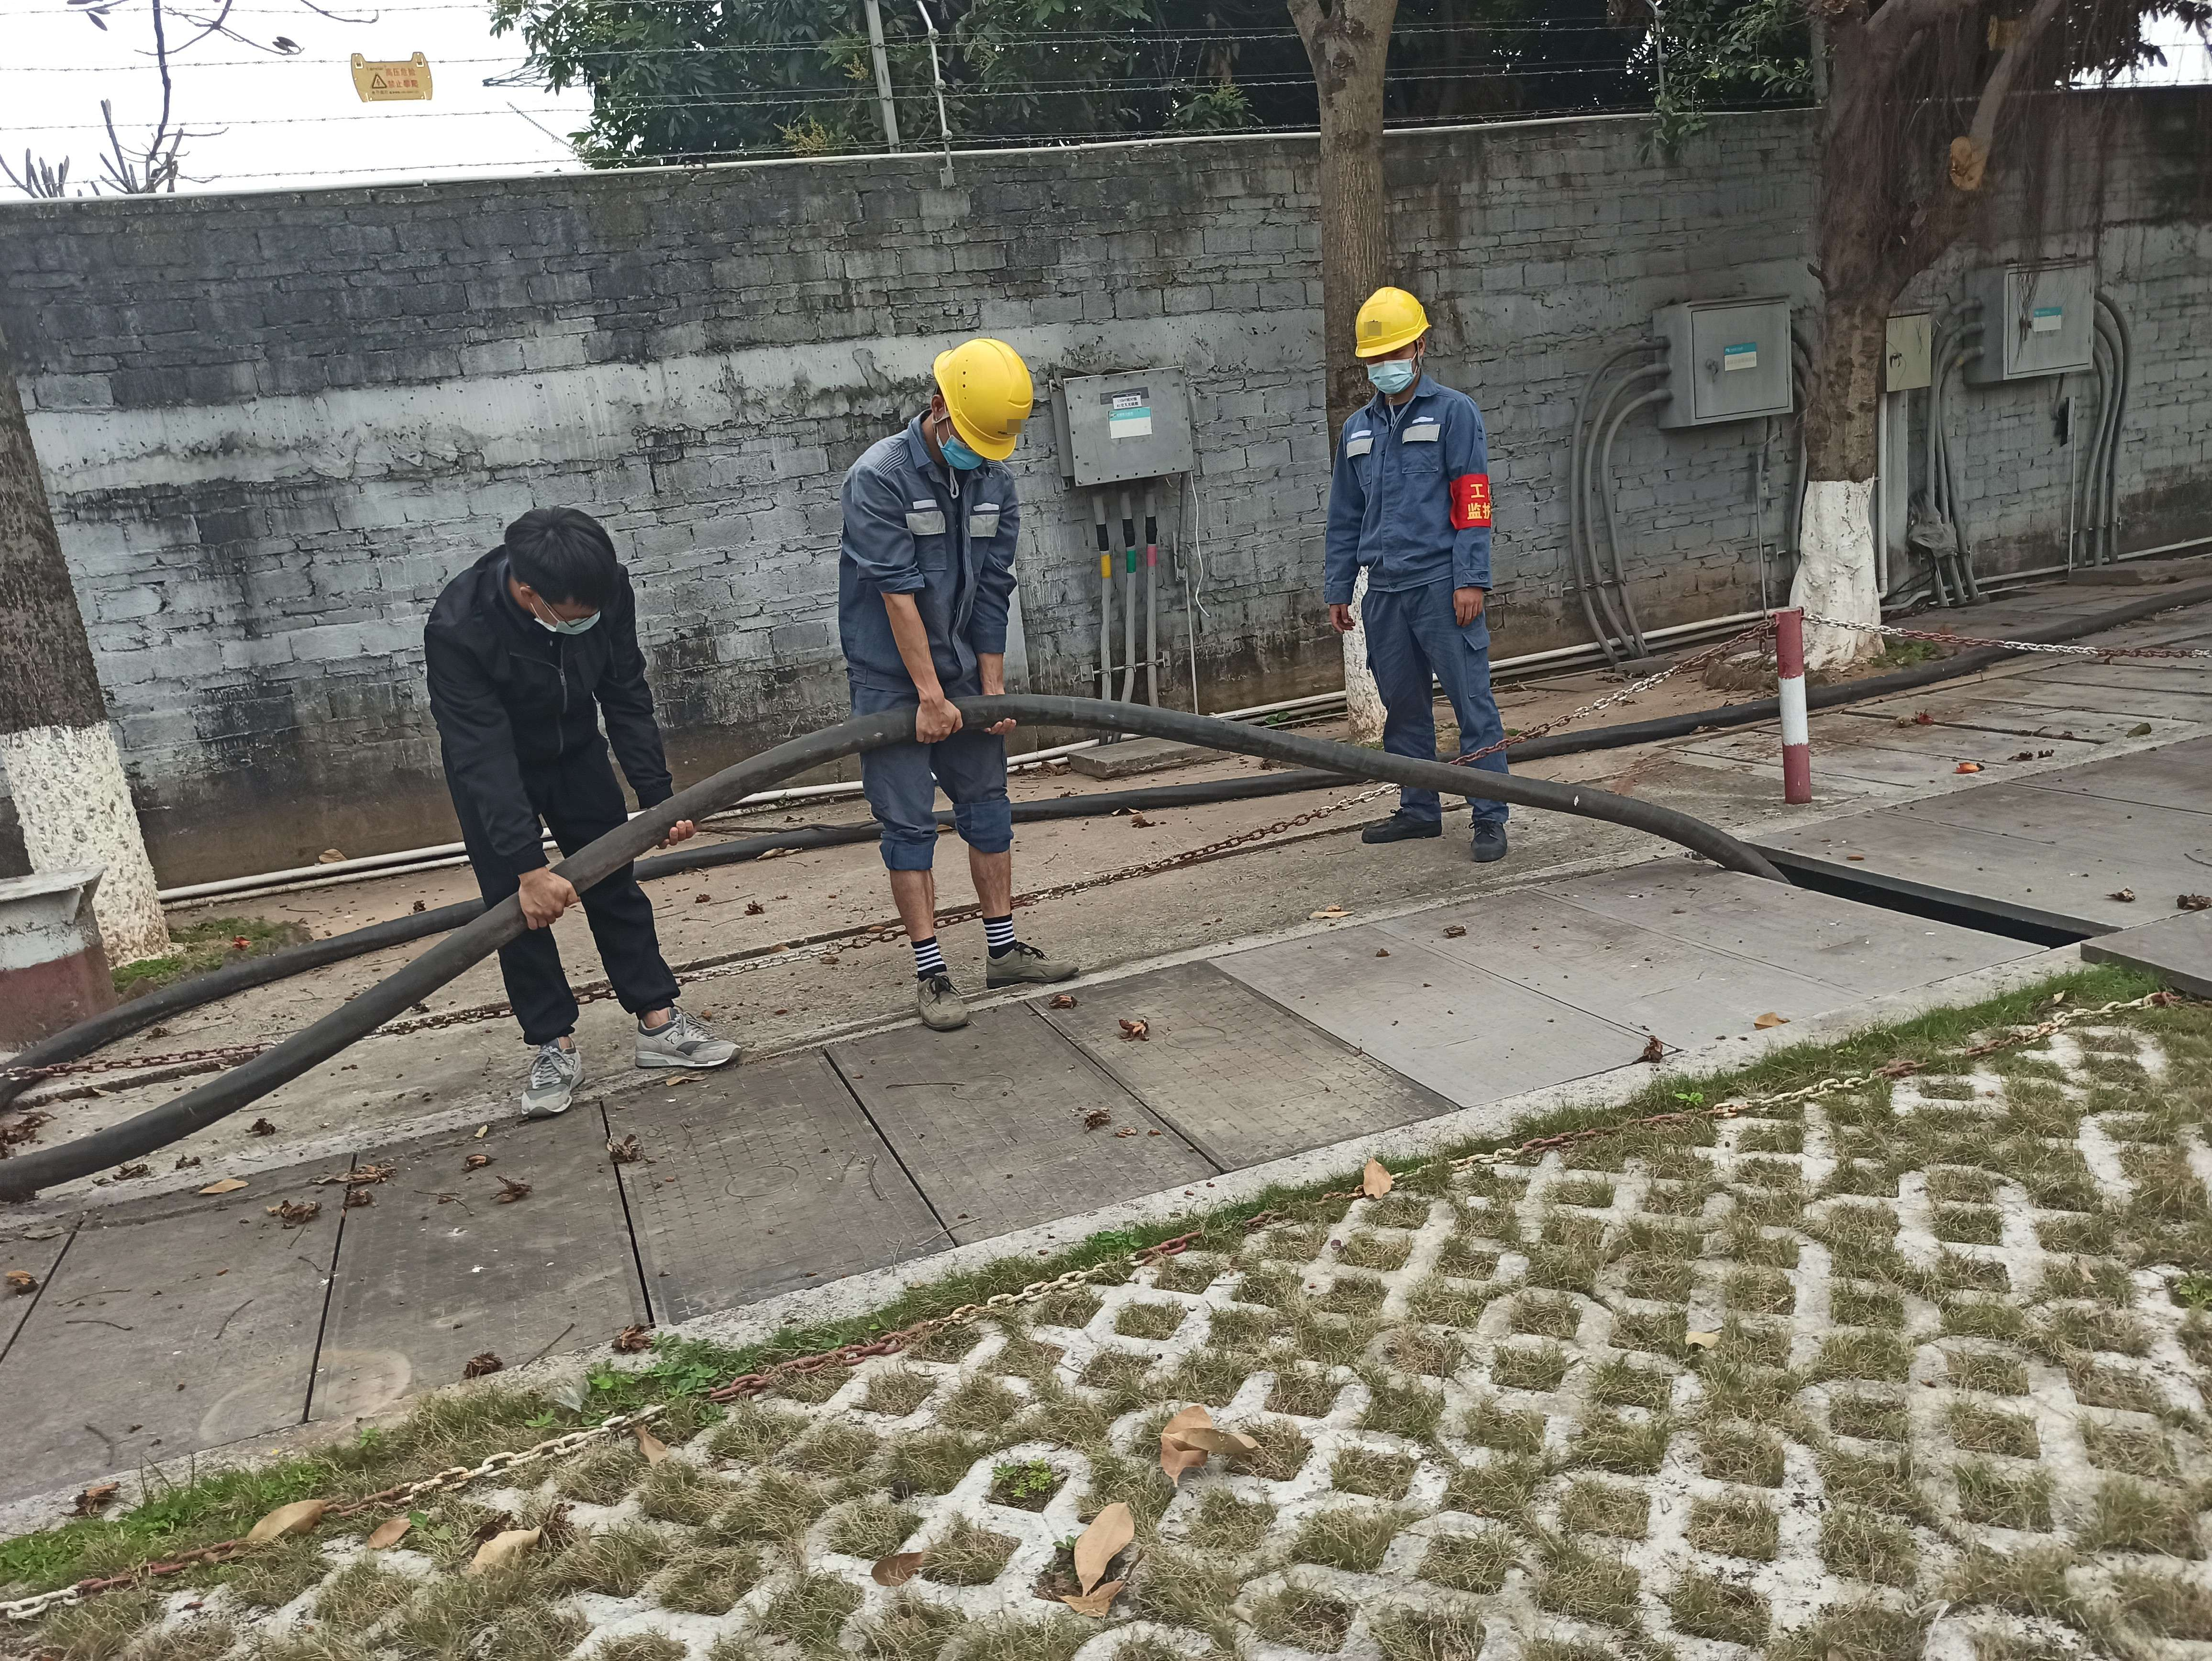downcloth: (434, 719, 693, 1057)
downsuit: (857, 684, 1022, 864), (1366, 614, 1514, 790)
upcloth: (424, 555, 666, 844)
upsuit: (1317, 373, 1504, 591), (843, 422, 1024, 644)
wrongbottom: (879, 818, 949, 953), (958, 803, 1024, 935)
wrongtop: (876, 569, 954, 735)
